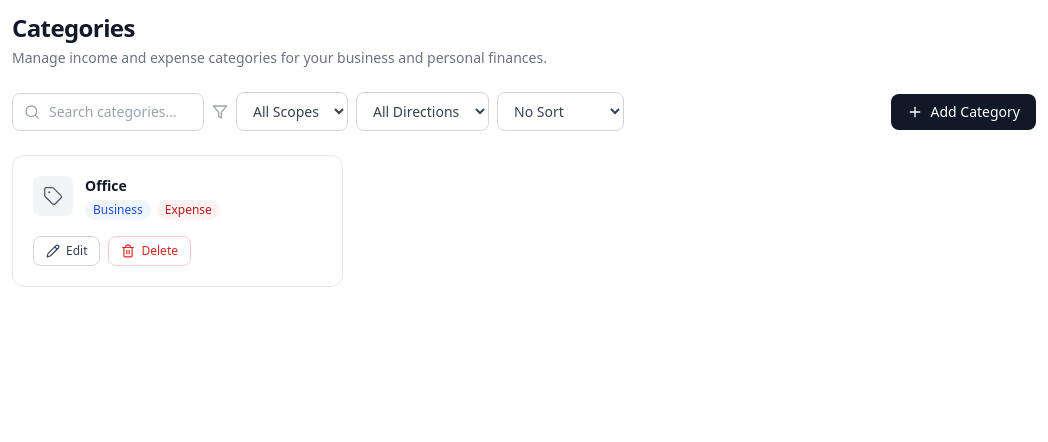
Test: CategoriesPage — empty state › shows filtered empty state when filters return no results
The width and height of the screenshot is (1048, 442).
Check: the heading "Office" is shown, box 85,176 -> 127,195
Select "Personal" in the dropdown named "Filter by scope" at (292, 112), box 236,92 -> 348,131
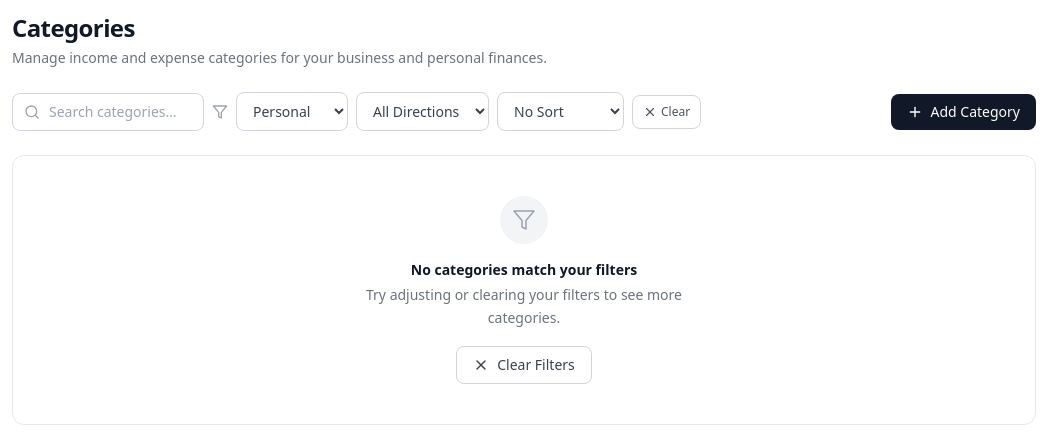
Check: the heading "No categories match your filters" is shown, box 411,260 -> 637,280
